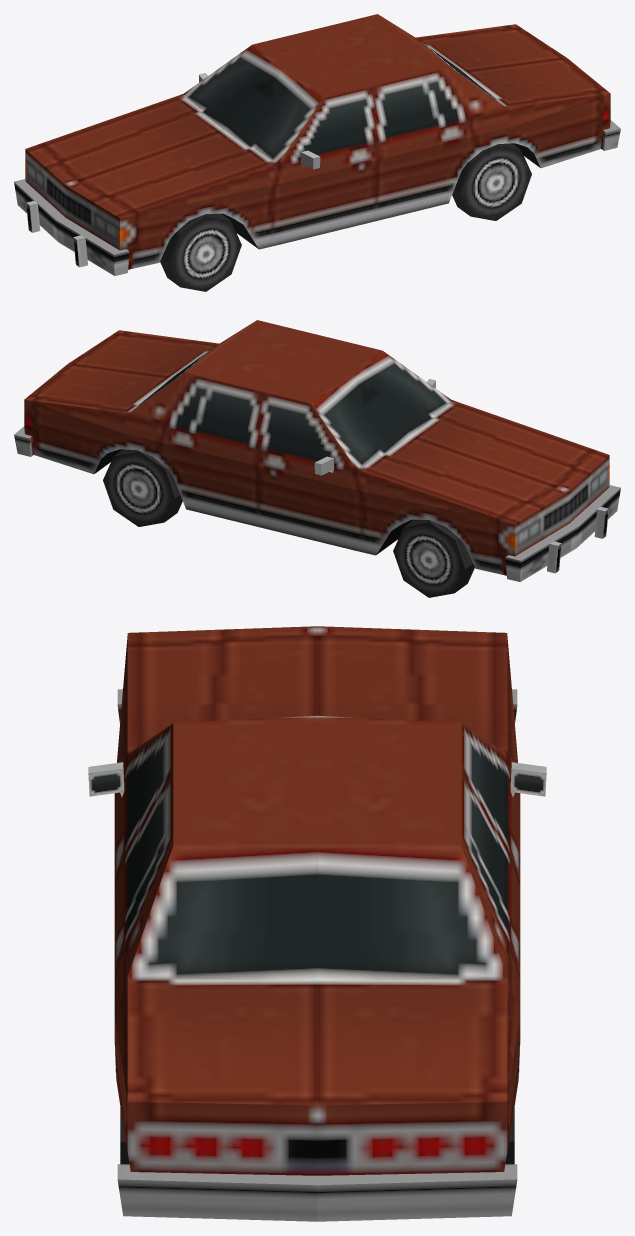
The model's file is Car5_o2.obj.
3 views of the same model, one above another, from view 1: azimuth 30°, elevation 25°; view 2: azimuth 150°, elevation 25°; view 3: azimuth 270°, elevation 25° (orthographic). The views are drawn at different scales.
Parts seen in each view (by area): view 1: Car5; view 2: Car5; view 3: Car5.
Boxes of the visible parts, <box> form: Car5: <box>14,14,620,291</box>; Car5: <box>14,320,620,597</box>; Car5: <box>88,626,546,1221</box>.
Size of the model in its own units: 3.37 by 0.9368 by 1.27.
